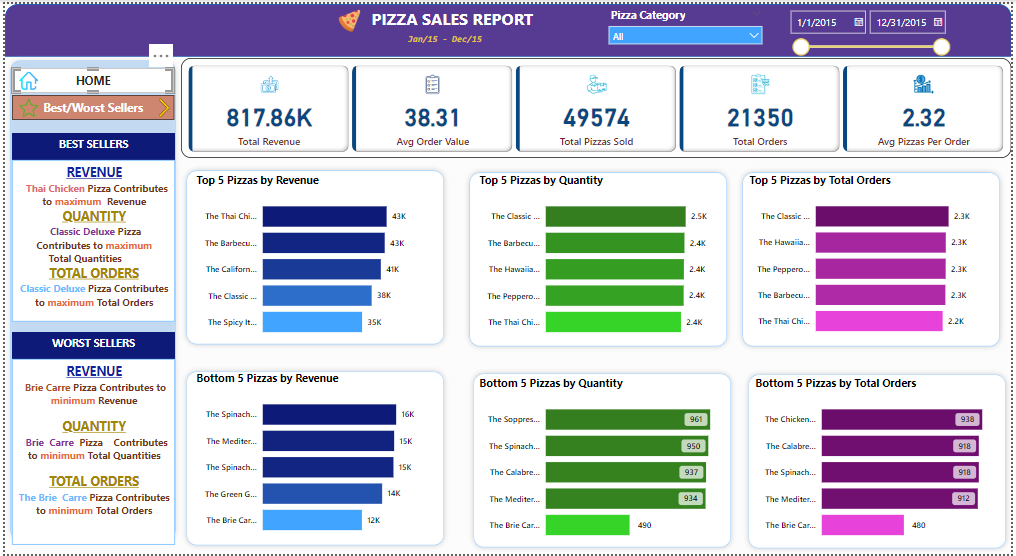

This screenshot's page, from the dashboard's own definition file:
{"tool":"powerbi","page":{"name":"Best/Worst Sellers","canvas":[1500,820],"ordinal":1},"visuals":[{"type":"cardVisual","fields":{"Data":["pizza_sales.Total Revenue","pizza_sales.Avg Order Value","pizza_sales.Total Pizzas Sold","pizza_sales.Total Orders","pizza_sales.Avg Pizzas Per Order"]},"box":[262.4,80.4,1238.2,149.2],"z":0},{"type":"shape","box":[0,0,1500.6,78.7],"z":1000},{"type":"image","box":[475.6,3.3,75.4,44.3],"z":2000},{"type":"textbox","box":[503.5,0,326.4,52.5],"z":3000},{"type":"textbox","box":[503.5,37.7,303.4,37.7],"z":4000},{"type":"shape","box":[262.4,239.4,400.2,275.5],"z":5000},{"type":"shape","box":[0,75.4,262.4,731.4],"z":13000},{"type":"textbox","box":[9.8,191.9,243,41],"z":14000},{"type":"textbox","box":[9.8,232.9,243,241.1],"z":15000},{"type":"textbox","box":[9.8,488.7,243,41],"z":16000},{"type":"textbox","box":[9.8,529.7,242.7,277.2],"z":17000},{"type":"slicer","fields":{"Values":["pizza_sales.pizza_category"]},"box":[890.5,0,249.3,75.4],"z":20000},{"type":"slicer","fields":{"Values":["pizza_sales.order_date"]},"box":[1157.8,0,259.1,95.1],"z":21000},{"type":"shape","box":[683.9,242.7,400.2,275.5],"z":21001},{"type":"shape","box":[1090.6,242.7,400.2,275.5],"z":21002},{"type":"shape","box":[262.4,539.6,400.2,275.5],"z":21003},{"type":"shape","box":[690.4,542.8,400.2,275.5],"z":21004},{"type":"shape","box":[1100.4,544.5,400.2,275.5],"z":21005},{"type":"barChart","title":"Top 5 Pizzas by Revenue ","fields":{"Category":["pizza_sales.pizza_name"],"Y":["pizza_sales.Total Revenue"]},"box":[280.4,252.6,364.1,259.1],"z":21006},{"type":"barChart","title":"Bottom 5 Pizzas by Revenue ","fields":{"Category":["pizza_sales.pizza_name"],"Y":["pizza_sales.Total Revenue"]},"box":[280.4,547.8,364.1,259.1],"z":21007},{"type":"barChart","title":"Top 5 Pizzas by Quantity","fields":{"Category":["pizza_sales.pizza_name"],"Y":["pizza_sales.Total Pizzas Sold"]},"box":[701.9,252.6,364.1,259.1],"z":21008},{"type":"barChart","title":"Bottom 5 Pizzas by Quantity","fields":{"Category":["pizza_sales.pizza_name"],"Y":["pizza_sales.Total Pizzas Sold"]},"box":[701.9,554.3,364.1,259.1],"z":21009},{"type":"barChart","title":"Top 5 Pizzas by Total Orders","fields":{"Category":["pizza_sales.pizza_name"],"Y":["pizza_sales.Total Orders"]},"box":[1105.4,252.6,364.1,257.5],"z":21010},{"type":"barChart","title":"Bottom 5 Pizzas by Total Orders","fields":{"Category":["pizza_sales.pizza_name"],"Y":["pizza_sales.Total Orders"]},"box":[1113.6,554.3,364.1,259.1],"z":21011},{"type":"pageNavigator","box":[9.8,136.1,242.7,37.7],"z":21017},{"type":"image","box":[216.5,136.1,42,37.7],"z":21018},{"type":"image","box":[9.8,136.1,50,37.7],"z":21019},{"type":"pageNavigator","box":[9.8,95.1,242.7,37.7],"z":21020},{"type":"image","box":[9.8,95.1,50,37.7],"z":21021}]}

Visuals, with their boxes in screenshot pixels (x1, y1, x2, y2), scaled from the page's 1500x820 canvas onto the 1016x556 screenshot:
cardVisual - pizza_sales.Total Revenue x pizza_sales.Avg Order Value: <region>178, 55, 1015, 156</region>
shape: <region>0, 0, 1015, 53</region>
image: <region>322, 2, 373, 32</region>
textbox: <region>341, 0, 562, 36</region>
textbox: <region>341, 26, 547, 51</region>
shape: <region>178, 162, 449, 349</region>
shape: <region>0, 51, 178, 547</region>
textbox: <region>7, 130, 171, 158</region>
textbox: <region>7, 158, 171, 321</region>
textbox: <region>7, 331, 171, 359</region>
textbox: <region>7, 359, 171, 547</region>
slicer - pizza_sales.pizza_category: <region>603, 0, 772, 51</region>
slicer - pizza_sales.order_date: <region>784, 0, 960, 64</region>
shape: <region>463, 165, 734, 351</region>
shape: <region>739, 165, 1010, 351</region>
shape: <region>178, 366, 449, 553</region>
shape: <region>468, 368, 739, 555</region>
shape: <region>745, 369, 1015, 555</region>
"Top 5 Pizzas by Revenue " barChart: <region>190, 171, 437, 347</region>
"Bottom 5 Pizzas by Revenue " barChart: <region>190, 371, 437, 547</region>
"Top 5 Pizzas by Quantity" barChart: <region>475, 171, 722, 347</region>
"Bottom 5 Pizzas by Quantity" barChart: <region>475, 376, 722, 552</region>
"Top 5 Pizzas by Total Orders" barChart: <region>749, 171, 995, 346</region>
"Bottom 5 Pizzas by Total Orders" barChart: <region>754, 376, 1001, 552</region>
pageNavigator: <region>7, 92, 171, 118</region>
image: <region>147, 92, 175, 118</region>
image: <region>7, 92, 41, 118</region>
pageNavigator: <region>7, 64, 171, 90</region>
image: <region>7, 64, 41, 90</region>
